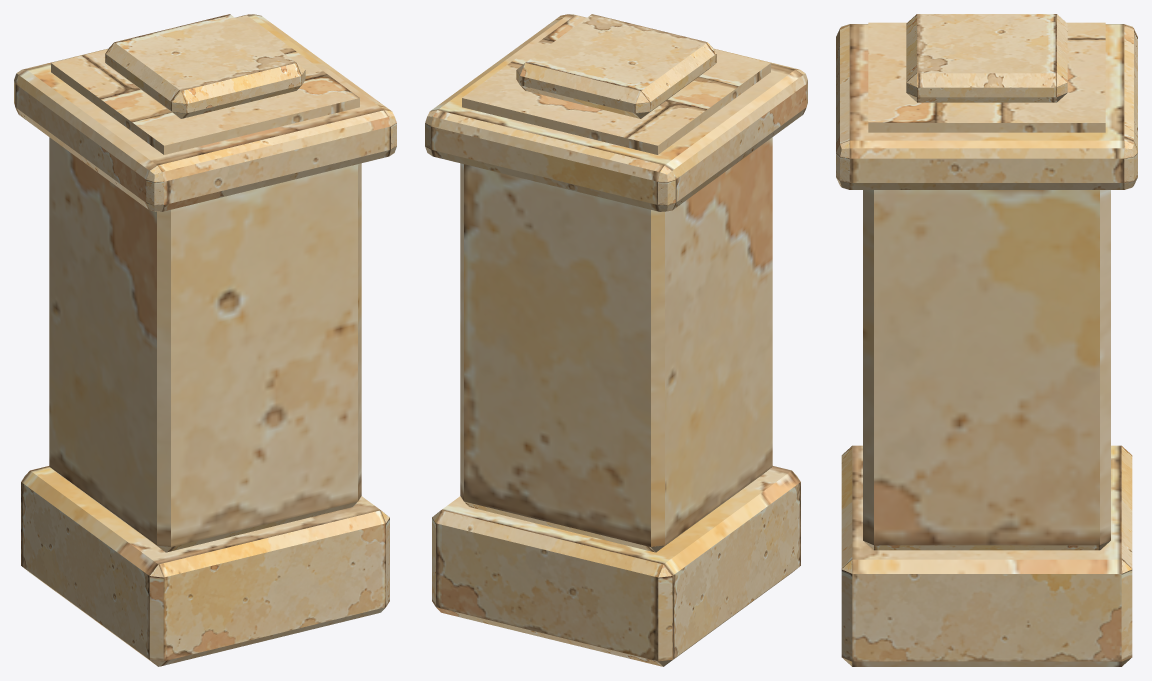
3 renders of one model, left to right at view 1: azimuth 30°, elevation 25°; view 2: azimuth 150°, elevation 25°; view 3: azimuth 270°, elevation 25°, orthographic. The views are drawn at different scales.
Visible parts, largest first — view 1: seaside_stone; view 2: seaside_stone; view 3: seaside_stone.
Boxes of the visible parts, x1,y1,x2,y2 form: seaside_stone: [14, 14, 396, 666]; seaside_stone: [425, 14, 807, 666]; seaside_stone: [836, 14, 1137, 666].
Size of the model in its own units: 0.56 by 1.16 by 0.56.
1 material, 1 textured.
